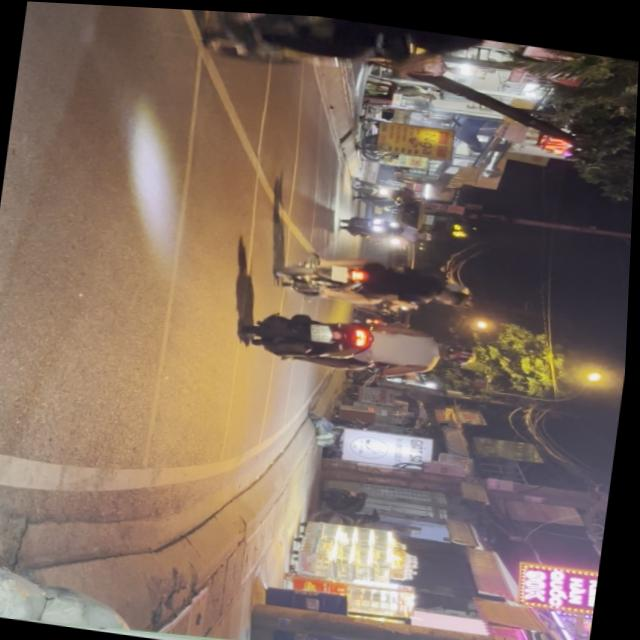helmet: (443, 336, 480, 360)
licenseplate: (183, 8, 548, 103), (241, 298, 481, 384)
nohelmet: (313, 318, 337, 339)
